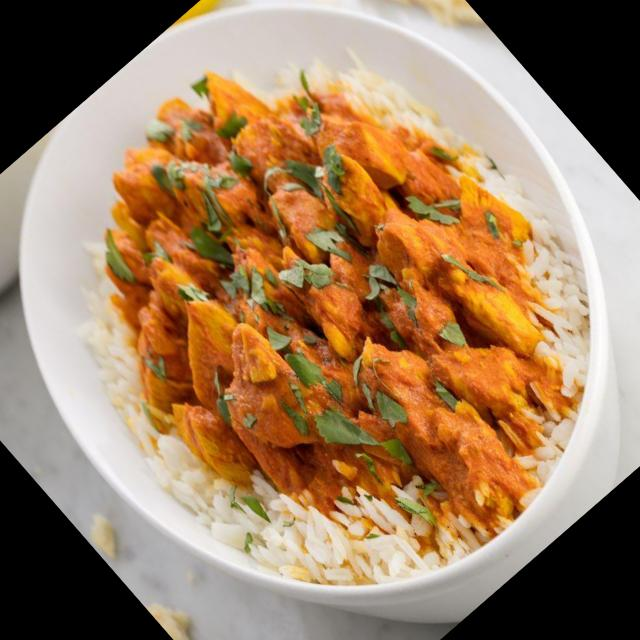chicken: (23, 5, 566, 558)
rice: (79, 71, 593, 571)
